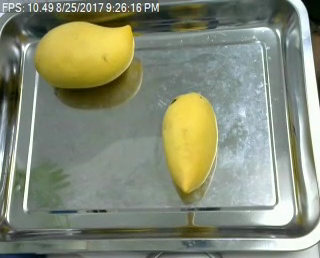Mango: (34, 19, 135, 92), (155, 88, 221, 196)
